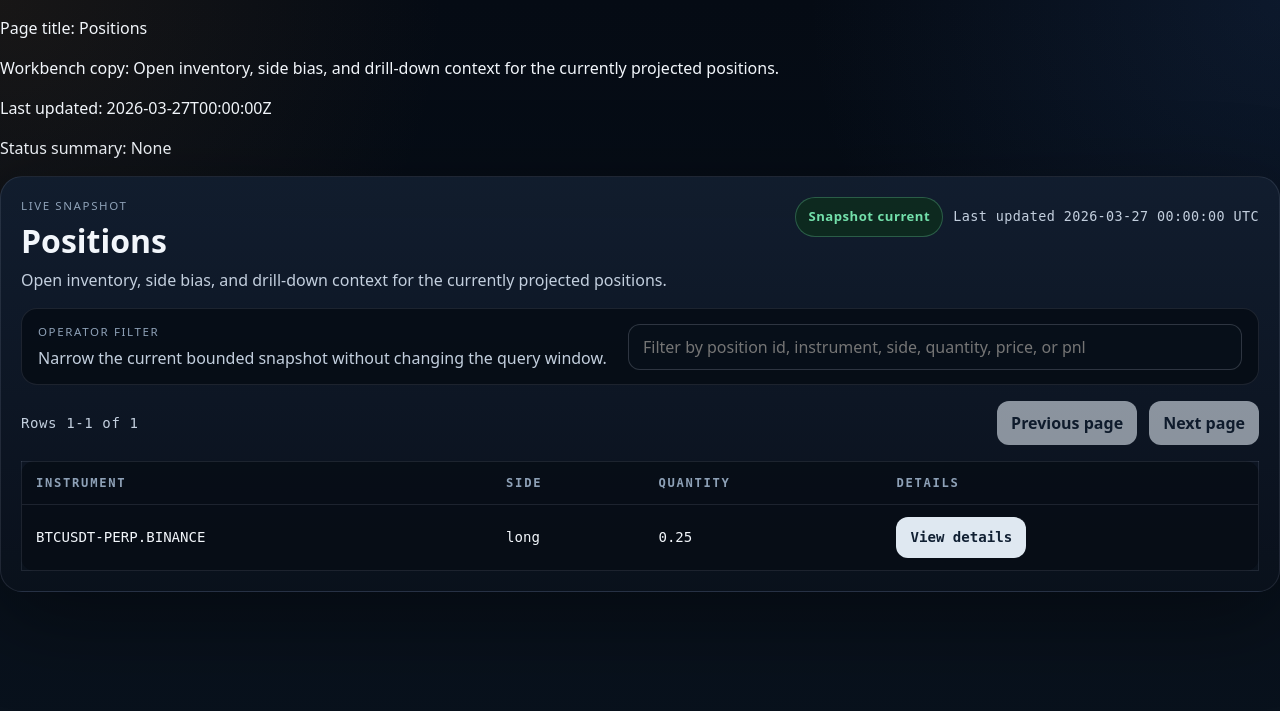
Test: shows a position drill-down panel for the selected row
This screenshot has width=1280, height=711.
Step 1. Click the button with aria-label "View details for BTCUSDT-PERP.BINANCE" → point(961, 538), box [896, 517, 1026, 558]
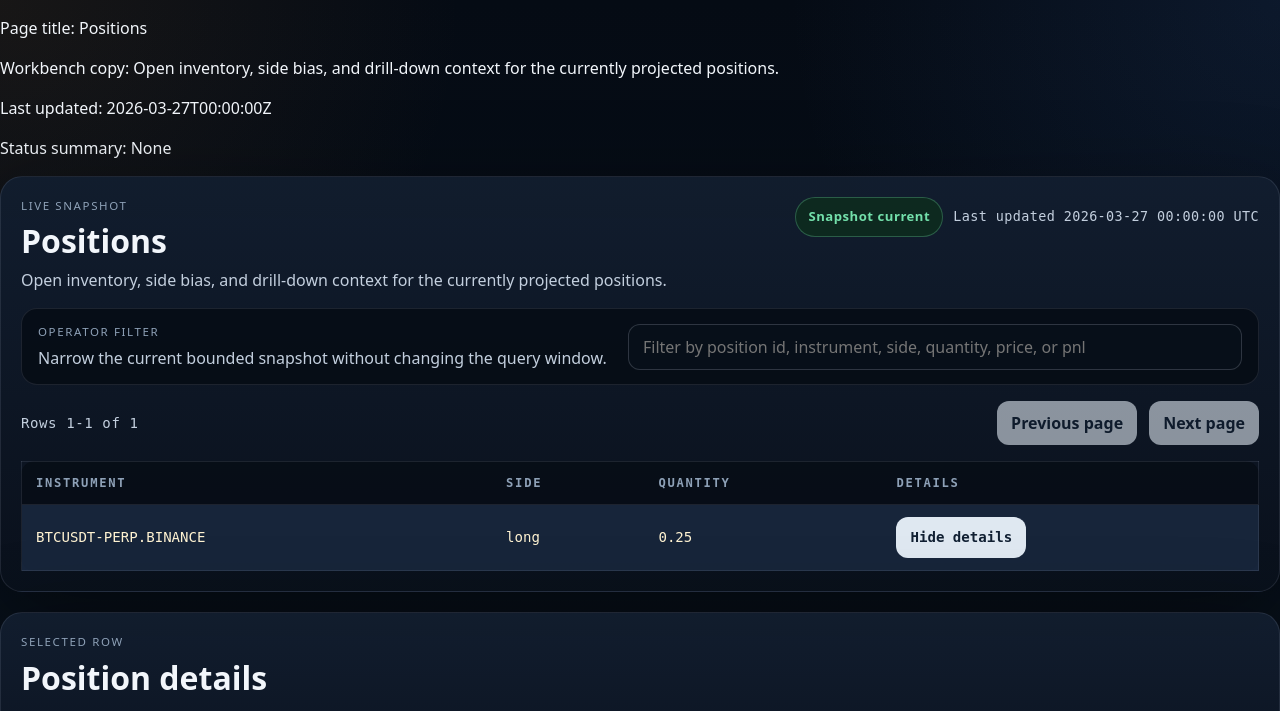
Expected: the heading "Position details" is shown, [21, 661, 267, 694]
Step 2. Click the button with aria-label "Hide details for BTCUSDT-PERP.BINANCE" → point(961, 538), box [896, 517, 1026, 558]
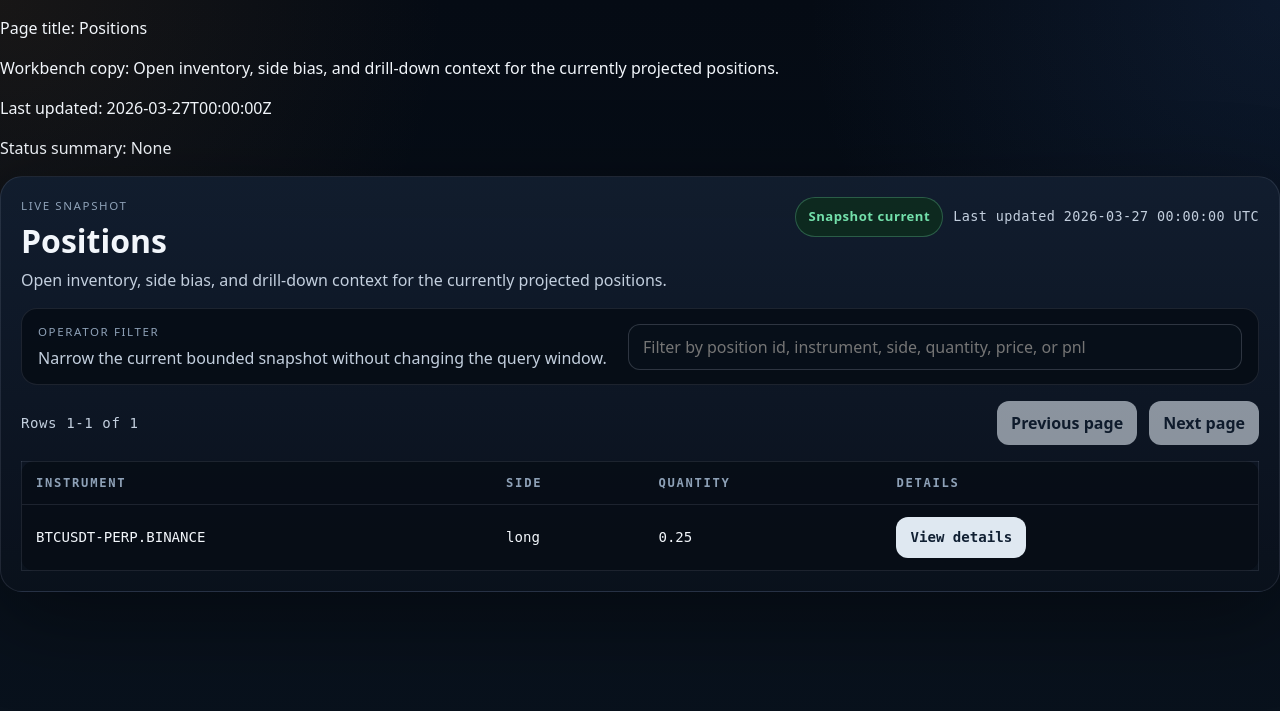
Expected: the heading "Position details" is gone
